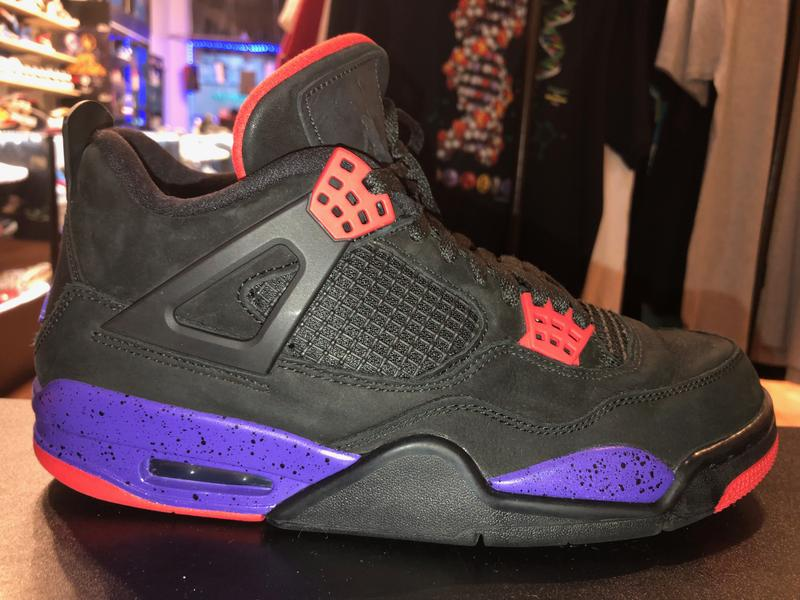Air Jordan 4 Raptors: (26, 27, 786, 549)
